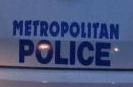C: (76, 40, 95, 66)
E: (94, 42, 112, 67)
I: (69, 40, 76, 66)
L: (54, 40, 69, 65)
O: (35, 39, 54, 65)
P: (17, 38, 34, 65)
